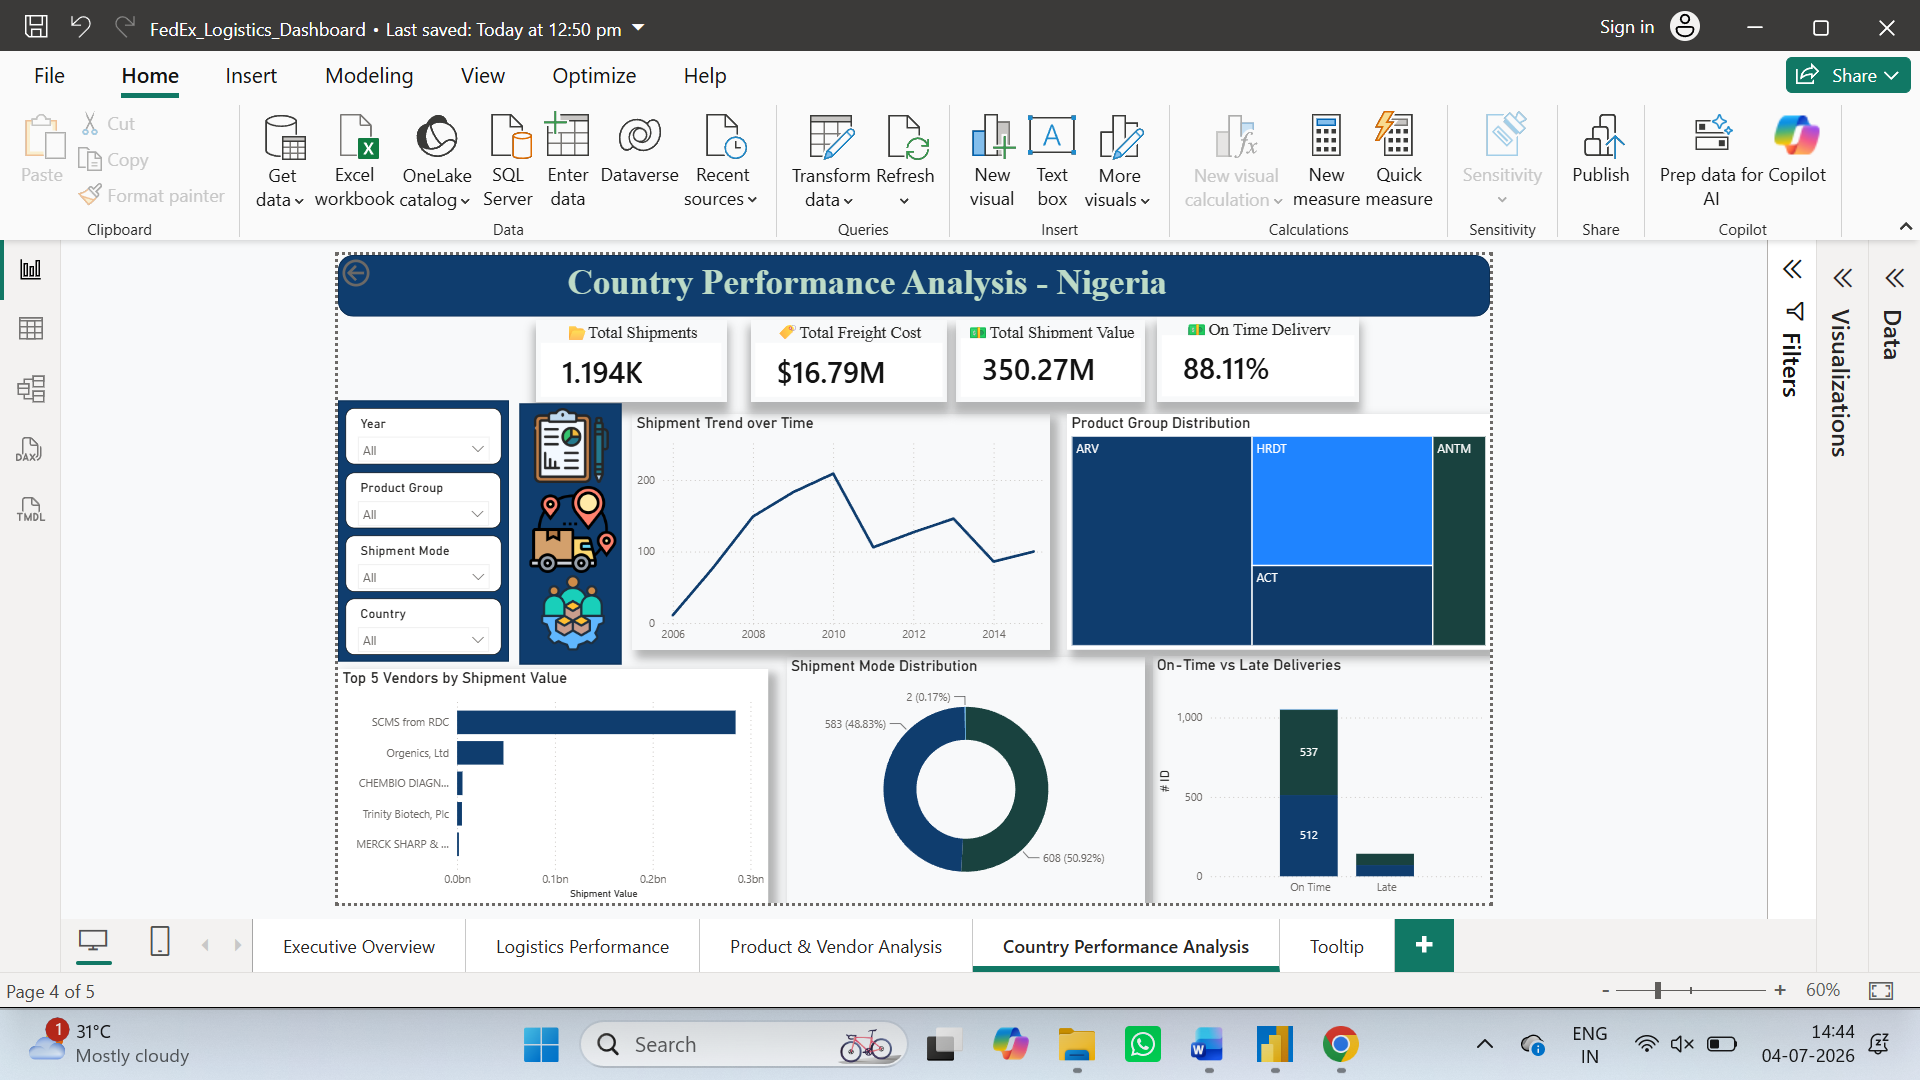

The page's visual inventory and layout, read from the dashboard file:
{"tool":"powerbi","page":{"name":"Country Performance Analysis","canvas":[1280,720],"ordinal":3},"visuals":[{"type":"shape","box":[0,0,1280,68.5],"z":0},{"type":"shape","box":[0,162,190,290],"z":0,"group":"g1"},{"type":"shape","box":[201.7,165,113.3,290],"z":0,"group":"g2"},{"type":"cardVisual","title":"📦Total Shipments","fields":{"Data":["CountNonNull(SCMS_Cleaned.ID)"]},"box":[220,71.7,211.7,91.7],"z":1000},{"type":"image","box":[206.7,256.7,108.3,96.7],"z":1000,"group":"g2"},{"type":"slicer","fields":{"Values":["SCMS_Cleaned.Country"]},"box":[8,382,173.2,62.8],"z":1000,"group":"g1"},{"type":"cardVisual","title":"💰Total Freight Cost","fields":{"Data":["Sum(SCMS_Cleaned.Freight Cost (USD))"]},"box":[457.5,71.7,218.3,91.7],"z":2000},{"type":"image","box":[211.7,170,95,83.3],"z":2000,"group":"g2"},{"type":"slicer","fields":{"Values":["Calendar.Year"]},"box":[8.3,170.3,173.3,62.5],"z":2000,"group":"g1"},{"type":"cardVisual","title":"✅On Time Delivery","fields":{"Data":["SCMS_Cleaned.On Time Delivery %"]},"box":[910,68.9,224.4,94.4],"z":3000},{"type":"slicer","fields":{"Values":["SCMS_Cleaned.Shipment Mode"]},"box":[8,312.4,173.6,62.4],"z":3000,"group":"g1"},{"type":"image","box":[206.7,350,108.3,95],"z":3000,"group":"g2"},{"type":"group","id":"g1","title":"Group 1","box":[0,162,190,290],"z":4000},{"type":"slicer","fields":{"Values":["SCMS_Cleaned.Product Group"]},"box":[8,242.8,172.8,62],"z":4000,"group":"g1"},{"type":"cardVisual","title":"💵Total Shipment Value","fields":{"Data":["Sum(SCMS_Cleaned.Line Item Value)"]},"box":[685.8,71.7,210,91.7],"z":5000},{"type":"lineChart","title":"Shipment Trend over Time","fields":{"Y":["CountNonNull(SCMS_Cleaned.ID)"],"Category":["Calendar.Date.Variation.Date Hierarchy.Year","Calendar.Date.Variation.Date Hierarchy.Quarter","Calendar.Date.Variation.Date Hierarchy.Month","Calendar.Date.Variation.Date Hierarchy.Day"]},"box":[326,176,464,262],"z":6000},{"type":"donutChart","title":"Shipment Mode Distribution","fields":{"Y":["CountNonNull(SCMS_Cleaned.ID)"],"Category":["SCMS_Cleaned.Shipment Mode"]},"box":[498,446,398,274],"z":7000},{"type":"treemap","title":"Product Group Distribution","fields":{"Group":["SCMS_Cleaned.Product Group"],"Values":["Avg(SCMS_Cleaned.ID)"]},"box":[810,176,470,262],"z":8000},{"type":"barChart","title":"Top 5 Vendors by Shipment Value","fields":{"Category":["SCMS_Cleaned.Vendor"],"Y":["Sum(SCMS_Cleaned.Line Item Value)"]},"box":[0,460,478,260],"z":9000},{"type":"columnChart","title":"On-Time vs Late Deliveries","fields":{"Category":["SCMS_Cleaned.Delivery Status"],"Y":["CountNonNull(SCMS_Cleaned.ID)"],"Series":["SCMS_Cleaned.Shipment Mode"]},"box":[905,445,375,275],"z":10000},{"type":"textbox","box":[250,8.3,795,53.3],"z":11000},{"type":"group","id":"g2","title":"Group 3","box":[201.7,165,113.3,290],"z":12000},{"type":"actionButton","box":[0,0,100,40],"z":13000}]}

Visuals, with their boxes on the page's 1280x720 design canvas (x1, y1, x2, y2). These are canvas units, not pixel positions in the 1920x1080 screenshot, which may show the page scaled, cropped or inside an application window:
shape: detection(0, 0, 1280, 68)
shape: detection(0, 162, 190, 452)
shape: detection(202, 165, 315, 455)
"📦Total Shipments" cardVisual: detection(220, 72, 432, 163)
image: detection(207, 257, 315, 353)
slicer - SCMS_Cleaned.Country: detection(8, 382, 181, 445)
"💰Total Freight Cost" cardVisual: detection(458, 72, 676, 163)
image: detection(212, 170, 307, 253)
slicer - Calendar.Year: detection(8, 170, 182, 233)
"✅On Time Delivery" cardVisual: detection(910, 69, 1134, 163)
slicer - SCMS_Cleaned.Shipment Mode: detection(8, 312, 182, 375)
image: detection(207, 350, 315, 445)
"Group 1" group: detection(0, 162, 190, 452)
slicer - SCMS_Cleaned.Product Group: detection(8, 243, 181, 305)
"💵Total Shipment Value" cardVisual: detection(686, 72, 896, 163)
"Shipment Trend over Time" lineChart: detection(326, 176, 790, 438)
"Shipment Mode Distribution" donutChart: detection(498, 446, 896, 720)
"Product Group Distribution" treemap: detection(810, 176, 1280, 438)
"Top 5 Vendors by Shipment Value" barChart: detection(0, 460, 478, 720)
"On-Time vs Late Deliveries" columnChart: detection(905, 445, 1280, 720)
textbox: detection(250, 8, 1045, 62)
"Group 3" group: detection(202, 165, 315, 455)
actionButton: detection(0, 0, 100, 40)
